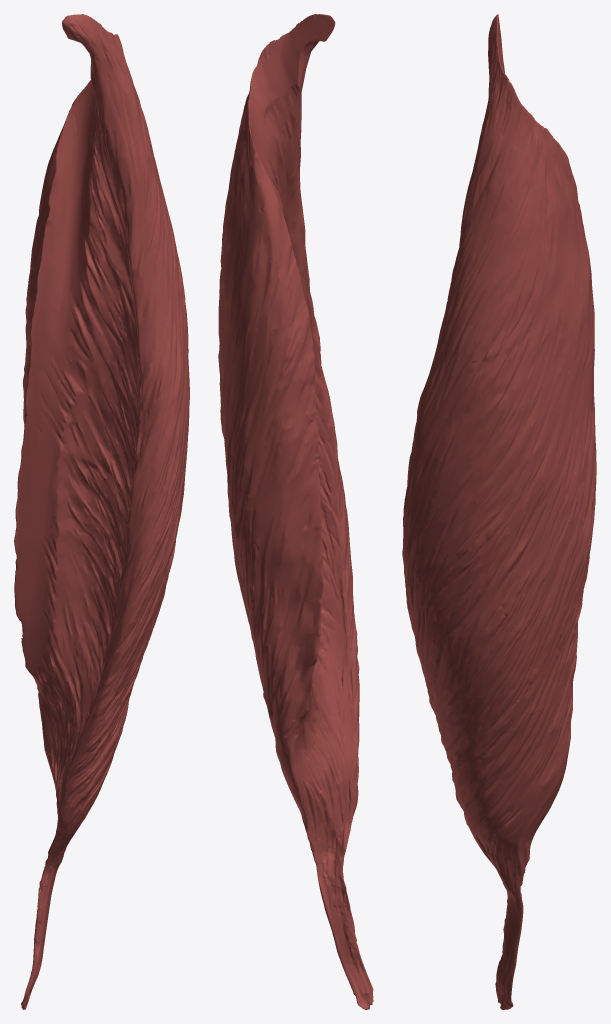
Rendered from FMA38931.glb.
3 renders of one model, left to right at view 1: azimuth 30°, elevation 25°; view 2: azimuth 150°, elevation 25°; view 3: azimuth 270°, elevation 25°, orthographic. The views are drawn at different scales.
Parts seen in each view (by area): view 1: FMA38931; view 2: FMA38931; view 3: FMA38931.
Boxes of the visible parts, x1,y1,x2,y2 form: FMA38931: (14,14,189,1009); FMA38931: (218,14,373,1009); FMA38931: (402,14,596,1009).
Size of the model in its own units: 0.0717 by 0.4427 by 0.0768.
